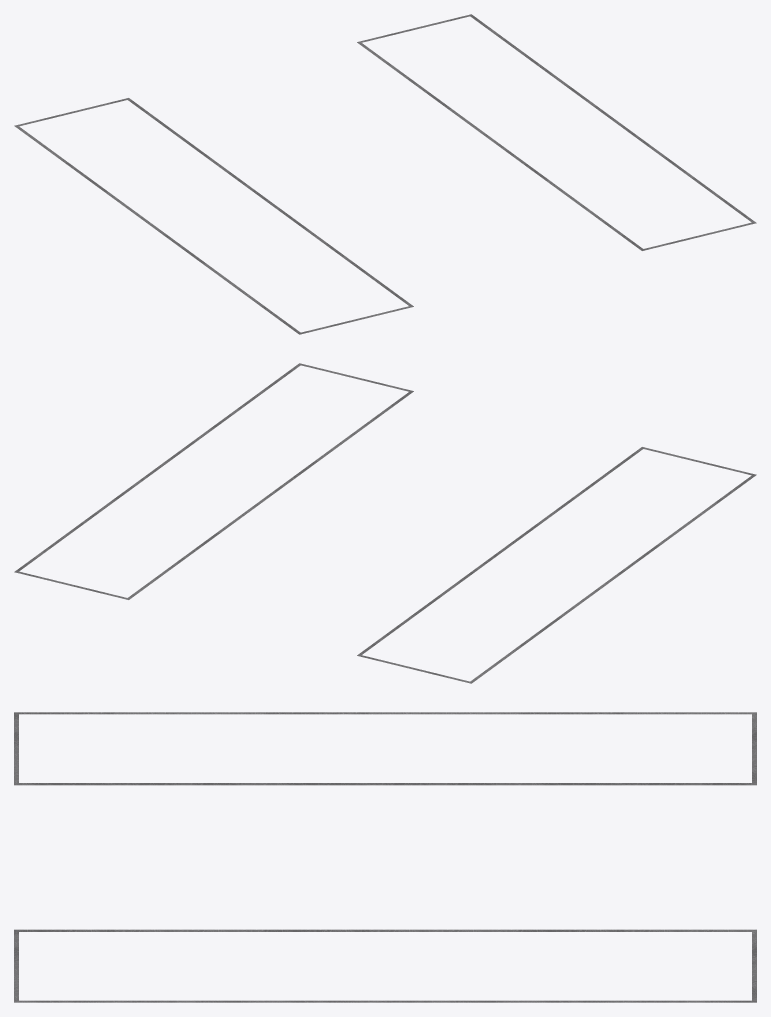
Rendered from aim_point-border.gltf.
3 views of the same model, one above another, from view 1: azimuth 30°, elevation 25°; view 2: azimuth 150°, elevation 25°; view 3: azimuth 270°, elevation 25° (orthographic). The views are drawn at different scales.
Visible parts, largest first — view 1: aim_point-border; view 2: aim_point-border; view 3: aim_point-border.
Part boxes in pixels (x1=…): aim_point-border: x1=14, y1=14, x2=756, y2=334; aim_point-border: x1=14, y1=363, x2=756, y2=683; aim_point-border: x1=14, y1=712, x2=756, y2=1002.
Bounding box in the file's own units: 42.2 × 0 × 45.6.
